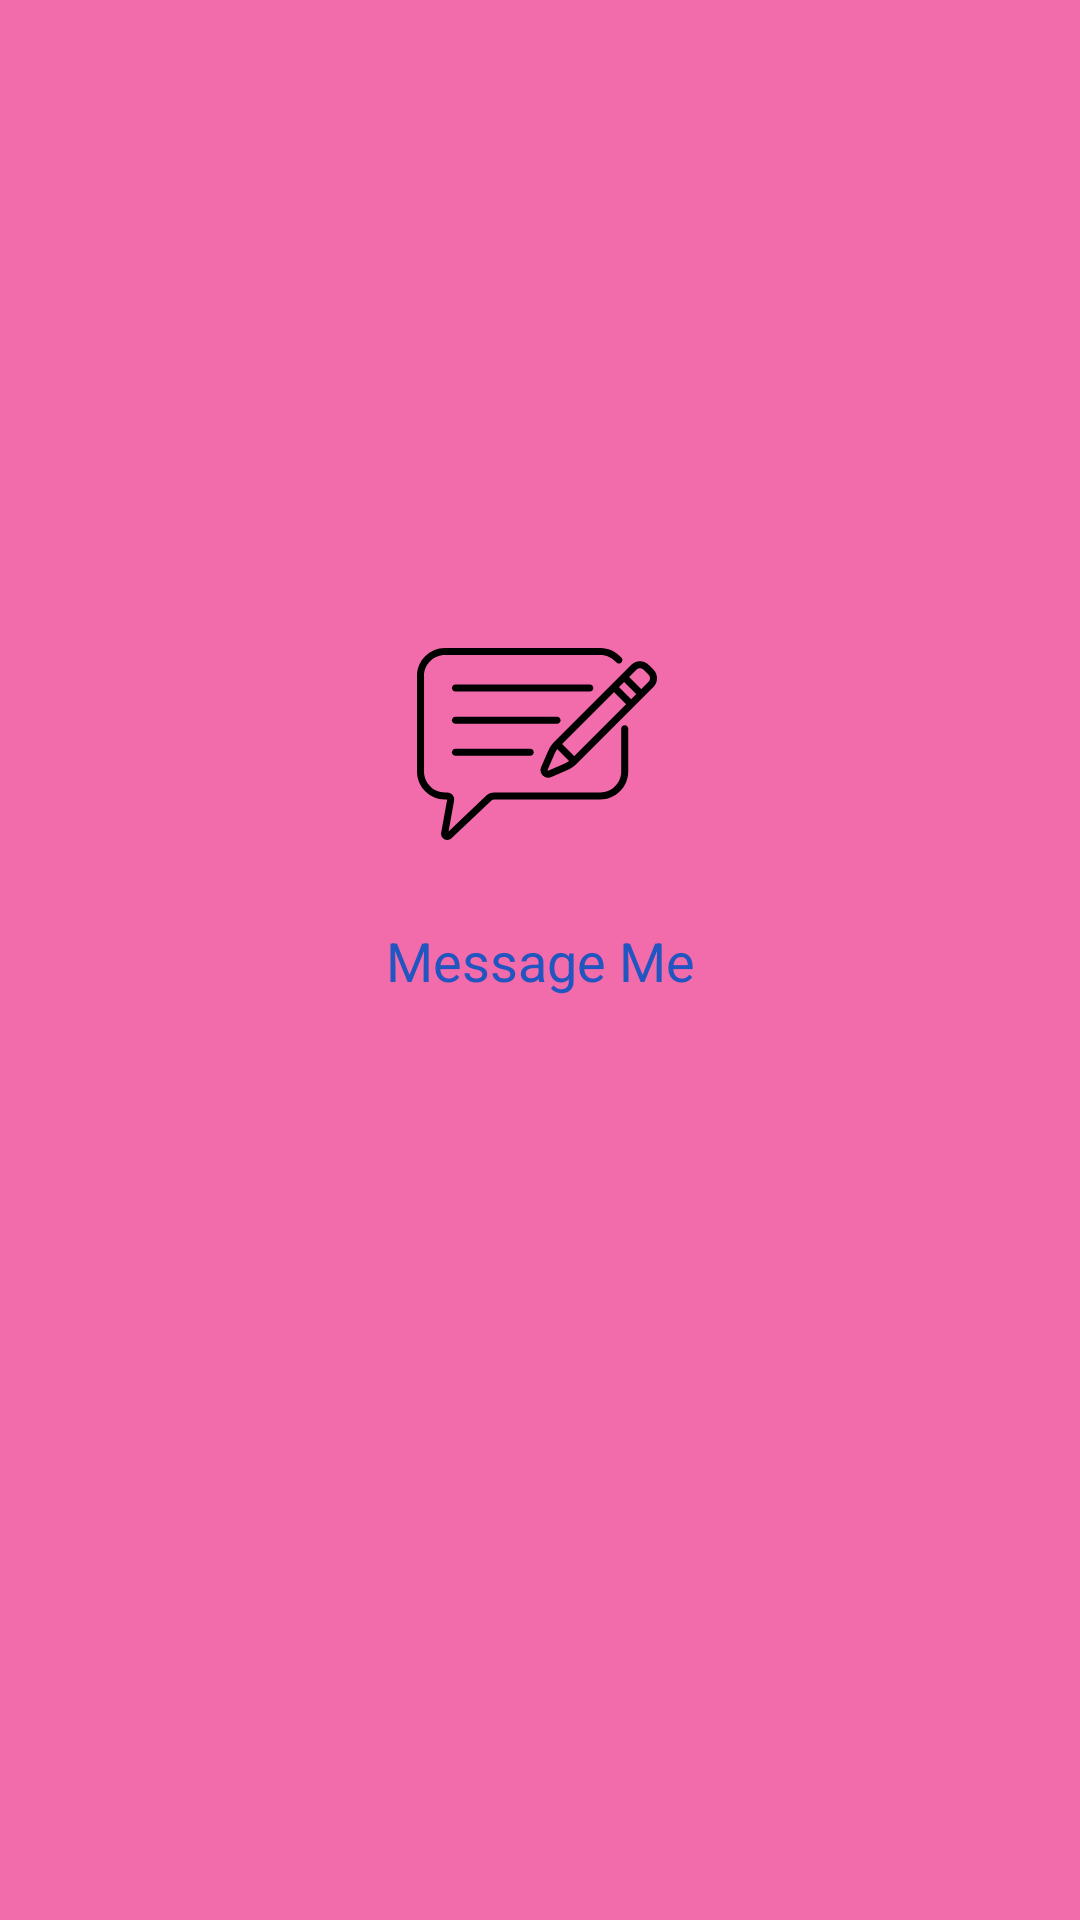

Named icons in this screenshot (1080px×1920px) and their bounding boxes, [x1=x1, y1=y1, x2=x2, y2=y2]:
chat: [x1=417, y1=648, x2=657, y2=840]
